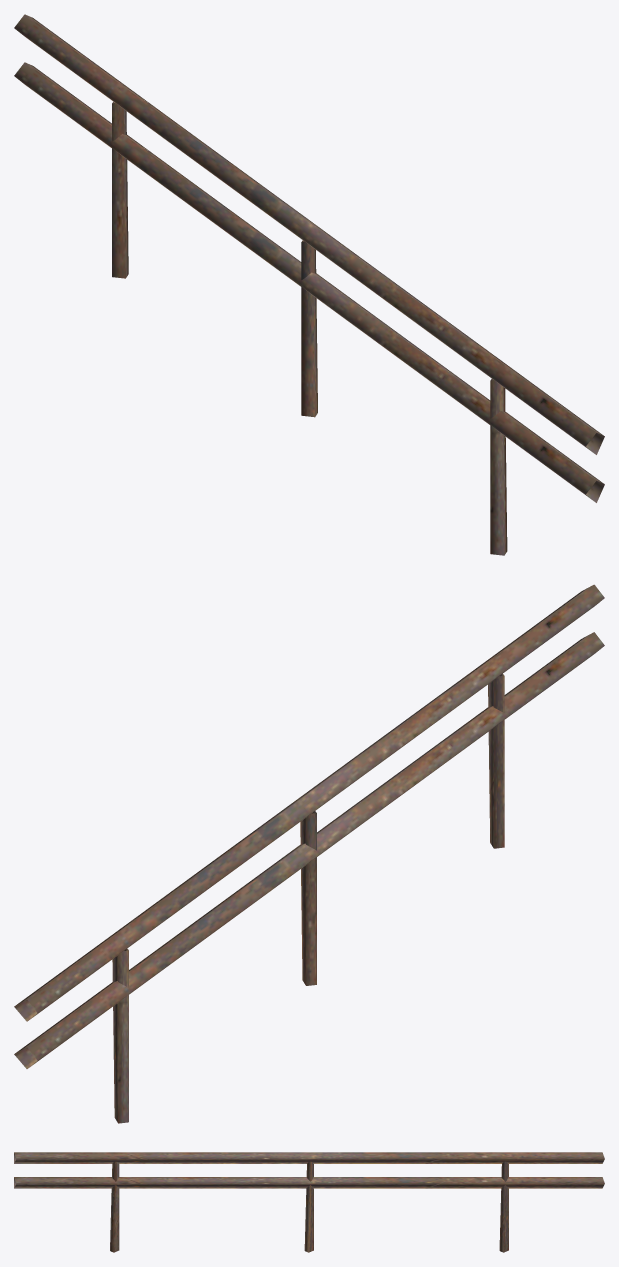
File: Metal_fence.fbx
The picture shows the model from 3 angles, top to bottom: view 1: azimuth 30°, elevation 25°; view 2: azimuth 150°, elevation 25°; view 3: azimuth 270°, elevation 25°; orthographic projection. The views are drawn at different scales.
Visible parts, largest first — view 1: Metal_fence; view 2: Metal_fence; view 3: Metal_fence.
Part boxes in pixels (bbox=[...]): Metal_fence: bbox=[14, 14, 604, 555]; Metal_fence: bbox=[14, 584, 604, 1123]; Metal_fence: bbox=[14, 1152, 604, 1252].
Size of the model in its own units: 10.57 by 89.66 by 487.
